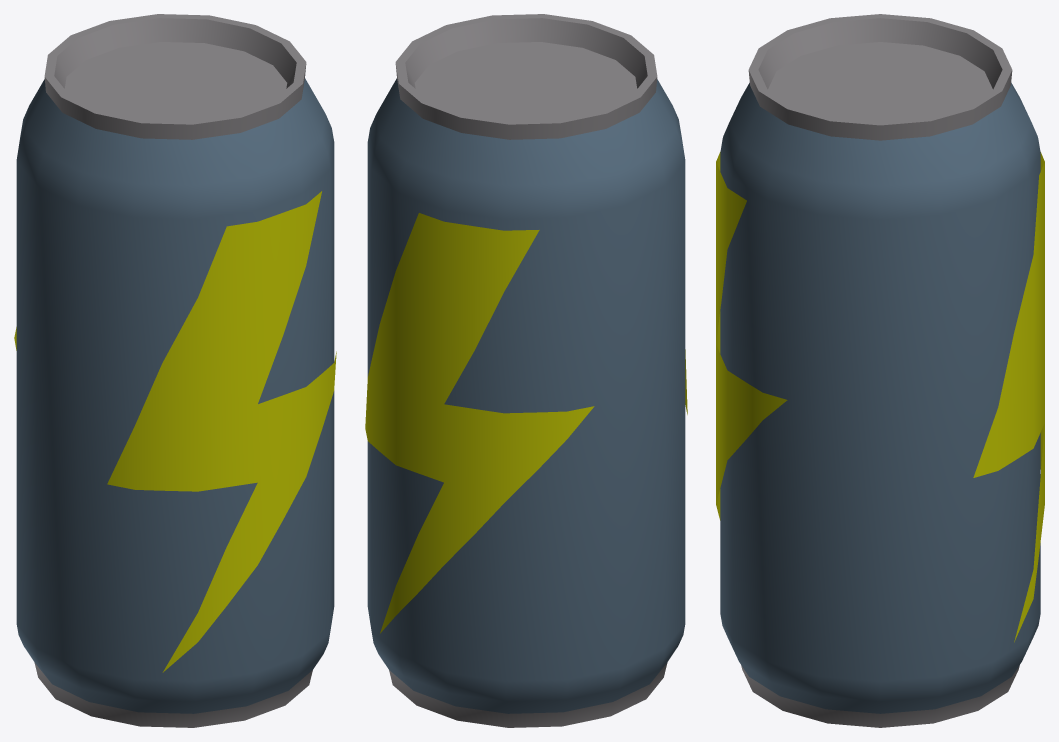
Rendered from item_energydrink.fbx.
The picture shows the model from 3 angles, left to right: view 1: azimuth 30°, elevation 25°; view 2: azimuth 150°, elevation 25°; view 3: azimuth 270°, elevation 25°; orthographic projection.
Parts seen in each view (by area): view 1: item_energydrink; view 2: item_energydrink; view 3: item_energydrink.
Part boxes in pixels (bbox=[...]): item_energydrink: bbox=[14, 14, 336, 727]; item_energydrink: bbox=[365, 14, 687, 727]; item_energydrink: bbox=[716, 14, 1044, 727].
Bounding box in the file's own units: 0.7421 × 1.53 × 0.762.
